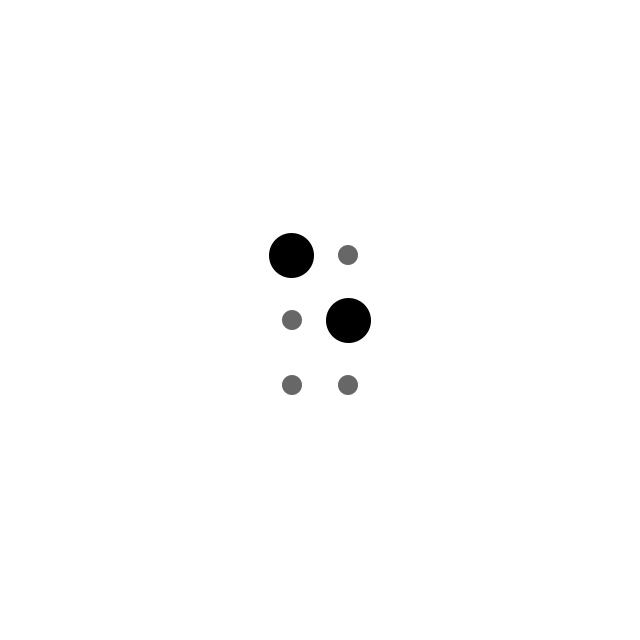E: (262, 229, 374, 412)
